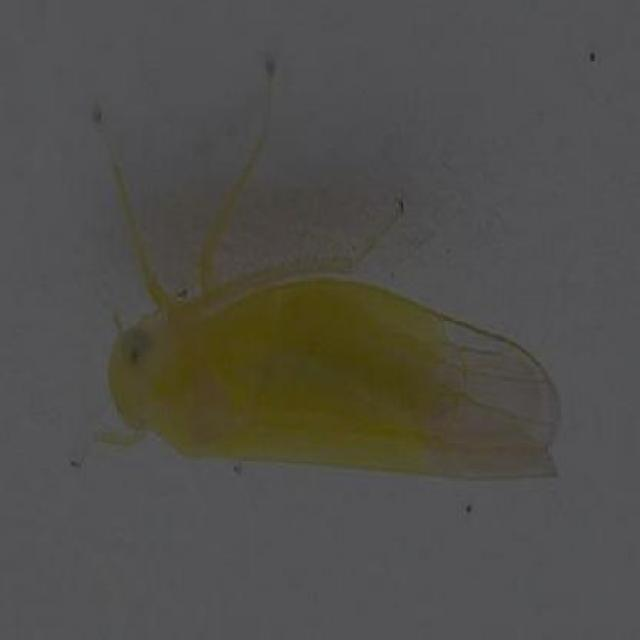green-leafhopper: (92, 254, 571, 501)
